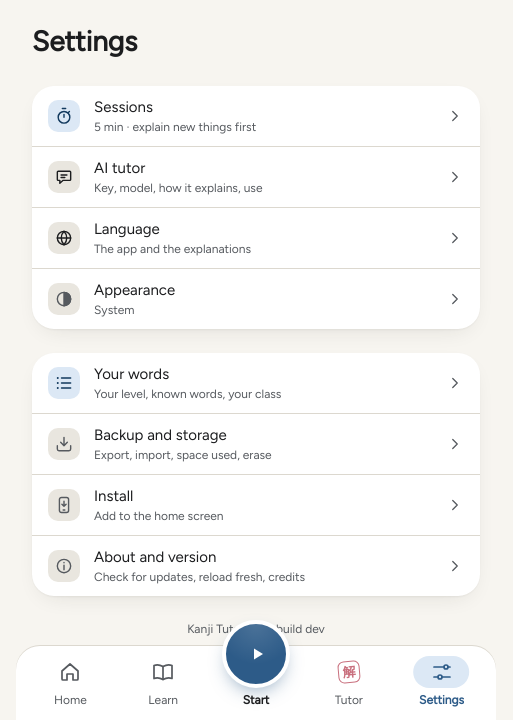
Test: Settings categories (IA5) › opens a category and goes back to the list
Click the link "Sessions 5 min · explain new things first".
click(64, 116)  # box [32, 86, 480, 146]
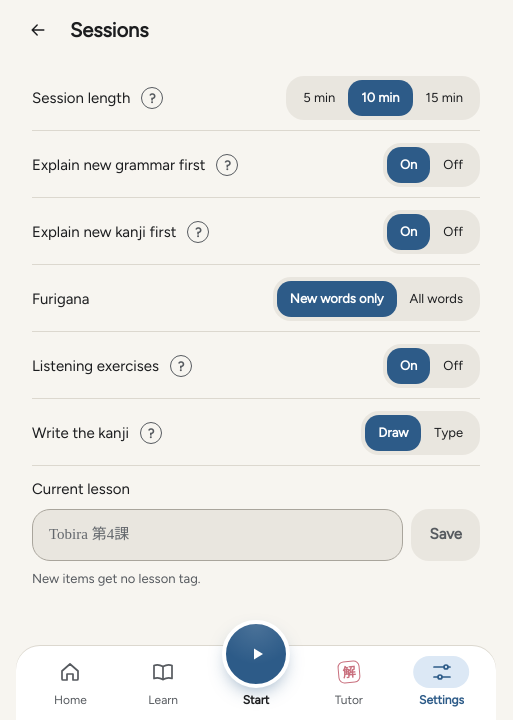
Expected: the heading "Sessions" is shown, [70, 18, 149, 42]
Expected: the element named "Furigana" is shown, [273, 277, 480, 321]
Click the button named "Settings".
click(38, 30)  # box [16, 8, 60, 52]
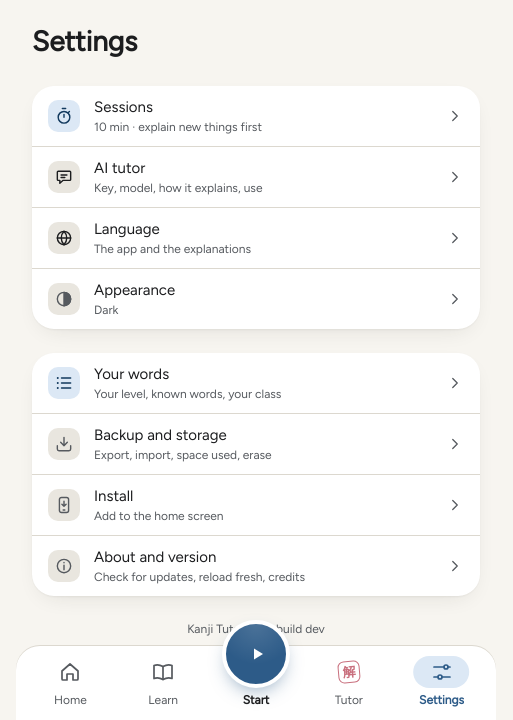
Expected: the link "Backup and storage Export, import, space used, erase" is shown, [32, 414, 480, 474]
